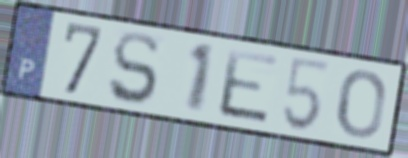1: (183, 41, 218, 115)
5: (279, 55, 333, 136)
7: (61, 19, 104, 97)
E: (216, 45, 281, 127)
O: (335, 67, 388, 140)
S: (106, 29, 162, 108)
